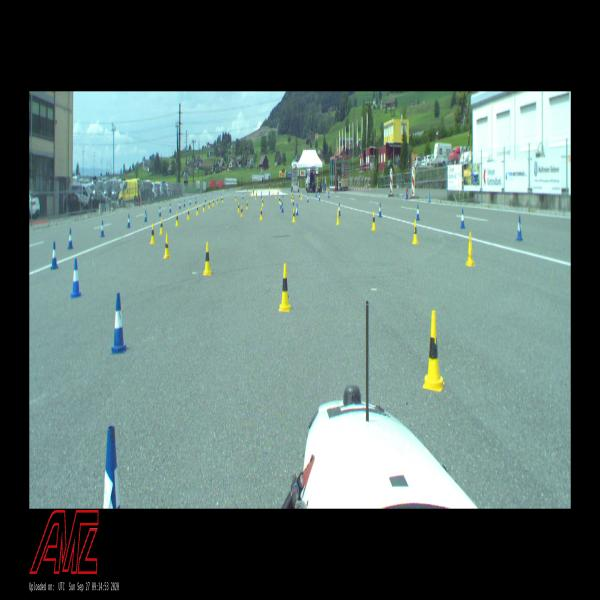blue_cone: (102, 424, 120, 508), (110, 292, 128, 354), (70, 257, 82, 297), (50, 241, 58, 269), (516, 215, 523, 241), (68, 228, 74, 249), (460, 208, 465, 229), (100, 220, 105, 237), (416, 204, 420, 221), (378, 202, 382, 218), (127, 214, 131, 228), (144, 209, 148, 222), (338, 202, 341, 217), (158, 206, 162, 217), (281, 202, 284, 213), (169, 203, 172, 213), (183, 198, 186, 208), (189, 197, 192, 207), (204, 194, 207, 203), (296, 203, 298, 216), (280, 199, 282, 210), (179, 200, 181, 210), (318, 192, 320, 202), (328, 190, 330, 200), (292, 196, 294, 206), (195, 196, 197, 205), (307, 194, 309, 203), (242, 191, 244, 200), (315, 191, 317, 198), (299, 190, 300, 198), (221, 194, 222, 201), (253, 182, 254, 189)
yellow_cone: (423, 310, 445, 391), (279, 263, 291, 312), (465, 231, 476, 266), (203, 241, 212, 276), (412, 219, 419, 245), (163, 233, 170, 259), (150, 223, 156, 245), (159, 216, 164, 235), (372, 211, 376, 231), (336, 208, 340, 225), (292, 208, 296, 222), (176, 212, 180, 226), (240, 205, 244, 217), (260, 206, 263, 221), (187, 207, 190, 220), (196, 204, 199, 215), (246, 199, 248, 210), (238, 202, 240, 213), (203, 201, 205, 212), (262, 196, 264, 207), (216, 196, 218, 205), (255, 190, 257, 199), (235, 194, 237, 202), (291, 194, 293, 202), (212, 198, 214, 206), (222, 195, 224, 202), (275, 192, 277, 199), (277, 186, 279, 193), (250, 190, 252, 196), (272, 191, 274, 196), (209, 200, 210, 209), (279, 196, 280, 204), (301, 192, 302, 200), (269, 186, 270, 192), (261, 187, 262, 193), (253, 190, 254, 196)
